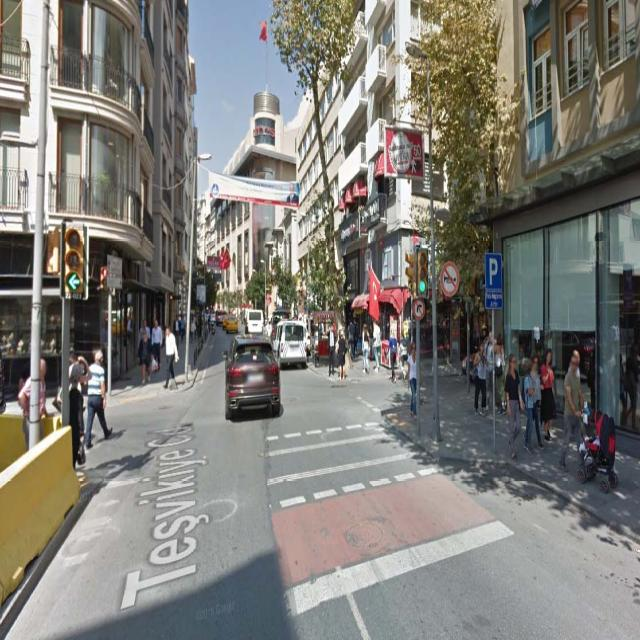sagadonulmez: (413, 299, 425, 320)
yesil: (62, 220, 87, 298), (416, 245, 428, 297)
